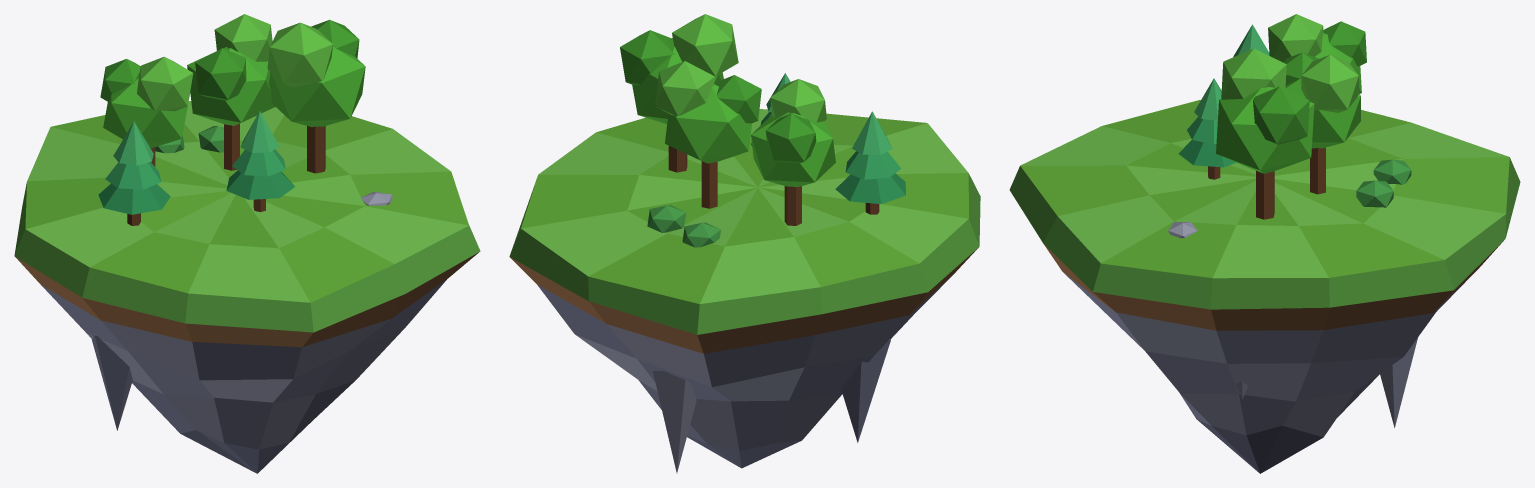
The model's file is island_3.glb.
The picture shows the model from 3 angles, left to right: view 1: azimuth 30°, elevation 25°; view 2: azimuth 150°, elevation 25°; view 3: azimuth 270°, elevation 25°; orthographic projection.
Visible parts, largest first — view 1: Rock, Trees; view 2: Rock, Trees; view 3: Rock, Trees.
Part boxes in pixels (x1,y1,x2,y2): Rock: [14, 101, 480, 473]; Trees: [98, 14, 392, 225]; Rock: [509, 109, 980, 473]; Trees: [620, 14, 905, 247]; Rock: [1009, 100, 1520, 473]; Trees: [1168, 14, 1411, 238].
Size of the model in its own units: 18.5 by 20.08 by 20.91.
